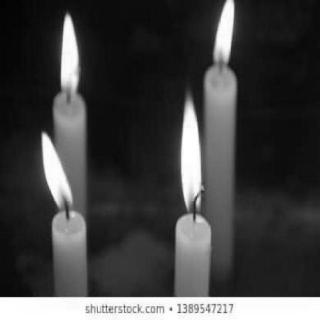Fire: (172, 87, 208, 220), (49, 11, 83, 99), (204, 0, 240, 66)
